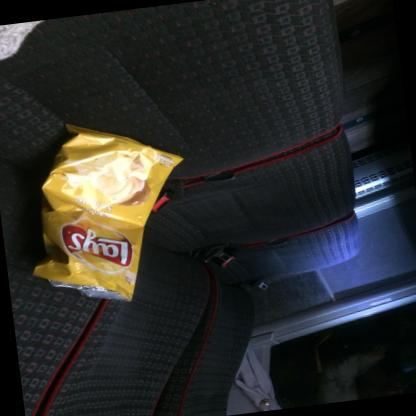Plastic: (31, 122, 182, 300)
